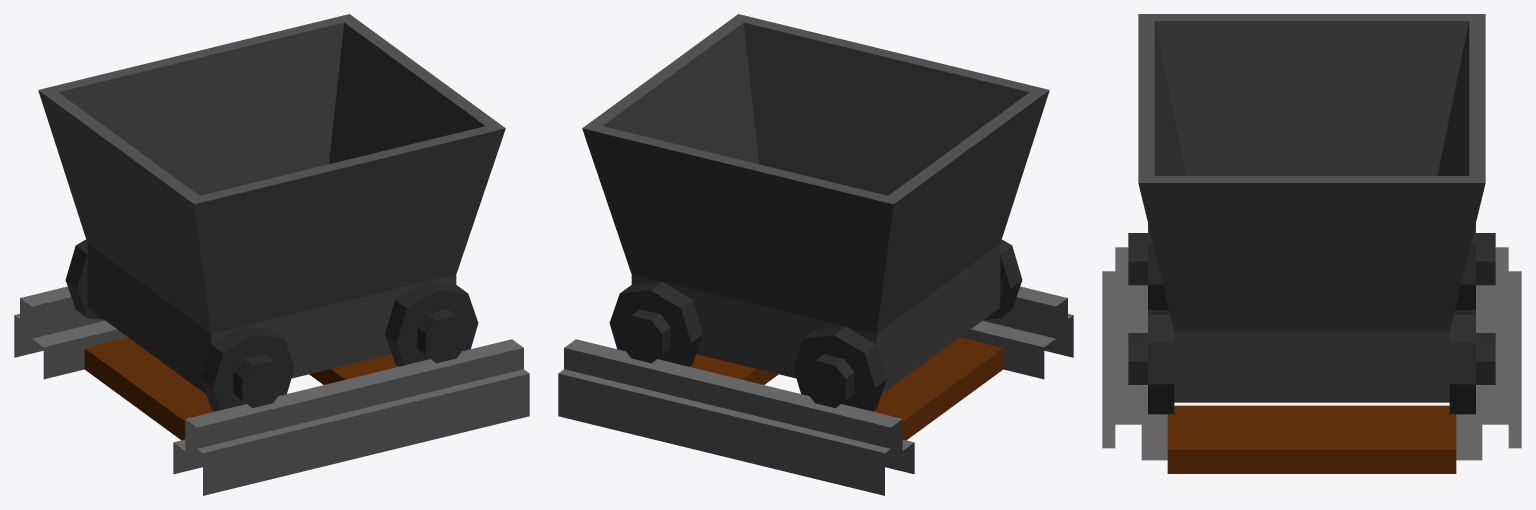
The model's file is minecart.obj.
3 views of the same model, side by side, from view 1: azimuth 30°, elevation 25°; view 2: azimuth 150°, elevation 25°; view 3: azimuth 270°, elevation 25° (orthographic). The views are drawn at different scales.
Visible parts, largest first — view 1: minecart_back; view 2: minecart_back; view 3: minecart_back.
Boxes of the visible parts, x1,y1,x2,y2 form: minecart_back: (14,14,529,495); minecart_back: (558,14,1073,495); minecart_back: (1102,14,1521,473).
Size of the model in its own units: 1.28 by 1.04 by 1.28.
